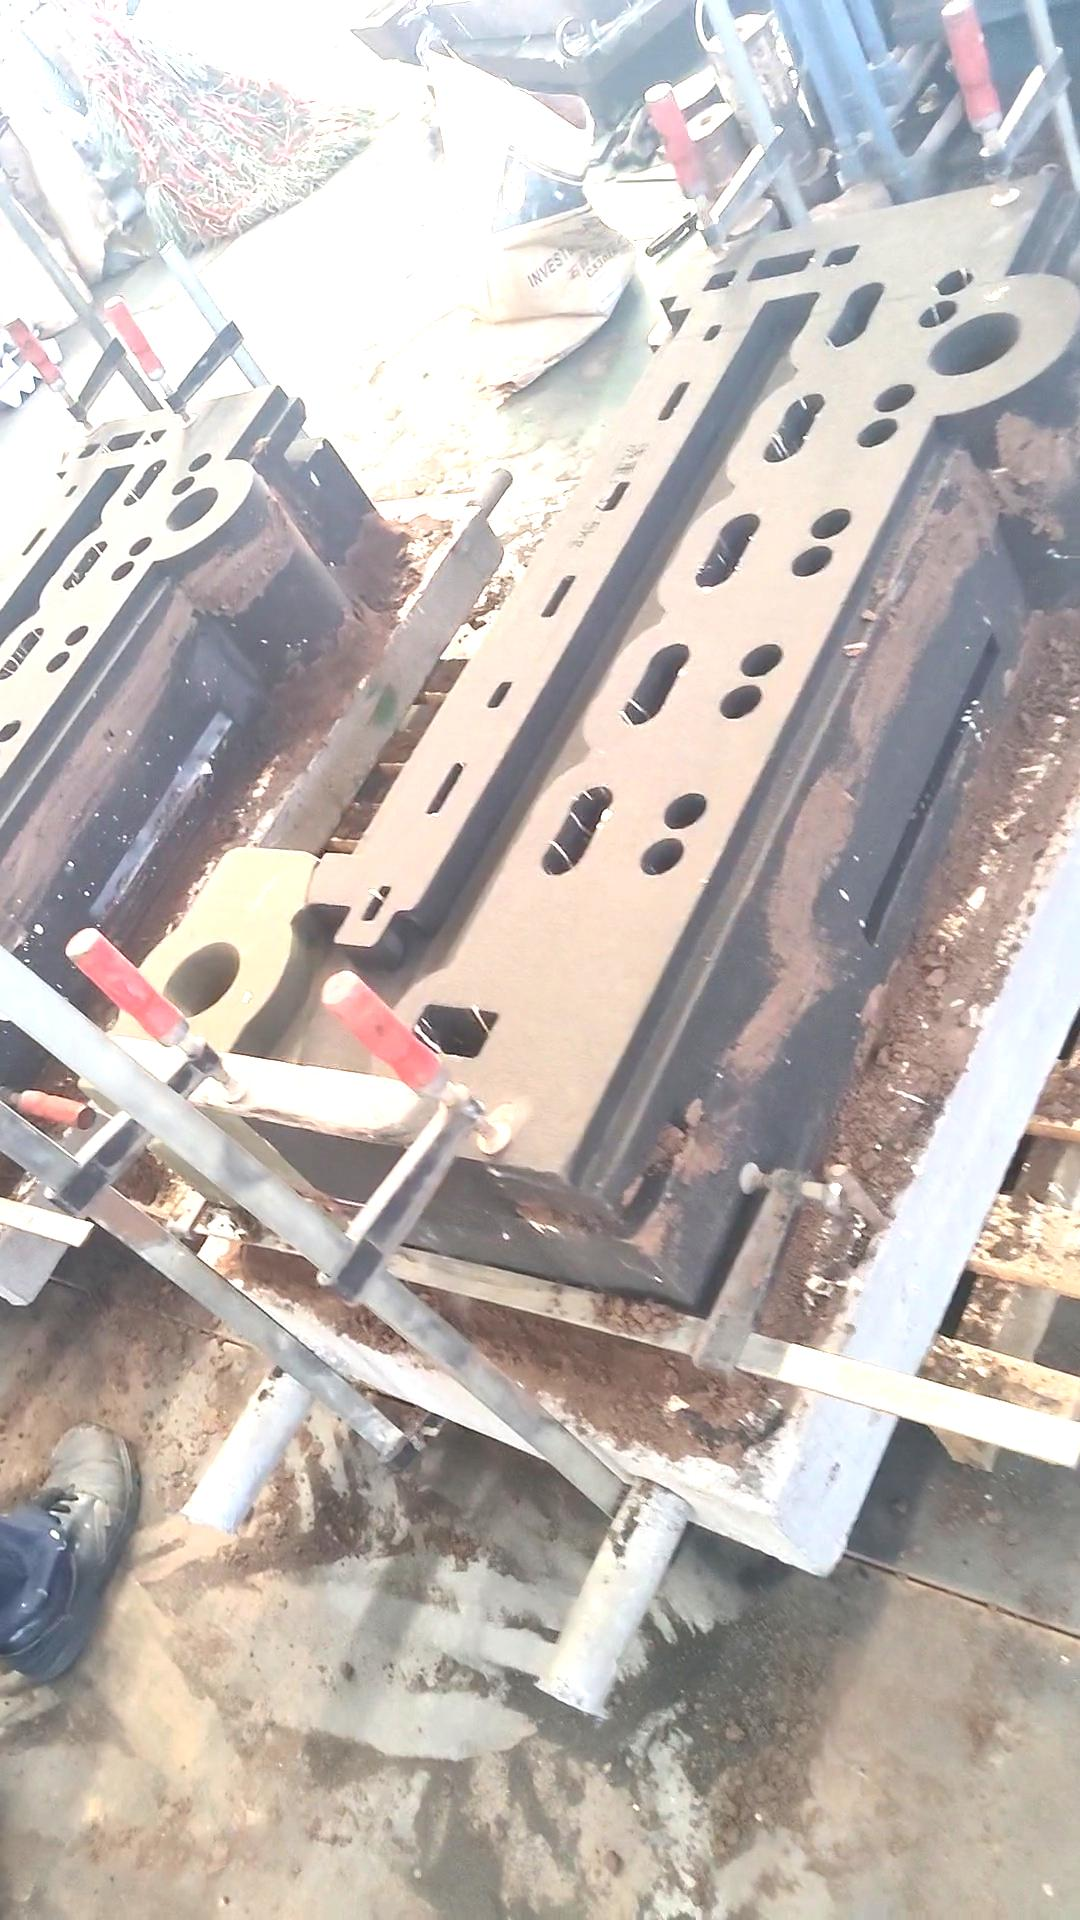pouring hole: (927, 313, 1023, 378), (160, 942, 240, 1018), (166, 487, 219, 531)
